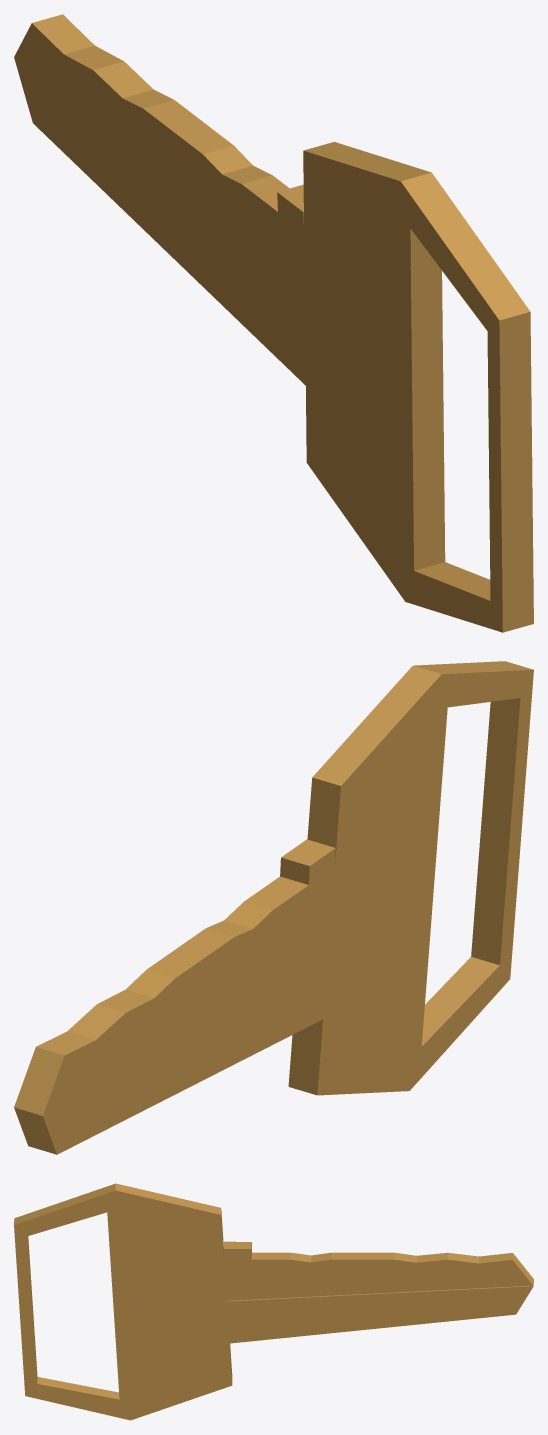
Rendered from keyOffice.glb.
The picture shows the model from 3 angles, top to bottom: view 1: azimuth 30°, elevation 25°; view 2: azimuth 150°, elevation 25°; view 3: azimuth 270°, elevation 25°; orthographic projection. The views are drawn at different scales.
Parts seen in each view (by area): view 1: micahKey; view 2: micahKey; view 3: micahKey.
Boxes of the visible parts, x1,y1,x2,y2 form: micahKey: (14,14,533,632); micahKey: (14,661,533,1154); micahKey: (14,1183,533,1420).
Bounding box in the file's own units: 0.00426 × 0.0351 × 0.0731.
Materials: 1 (1 with a texture image).
